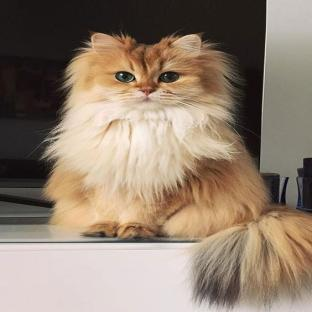Animal: (44, 32, 311, 308)
